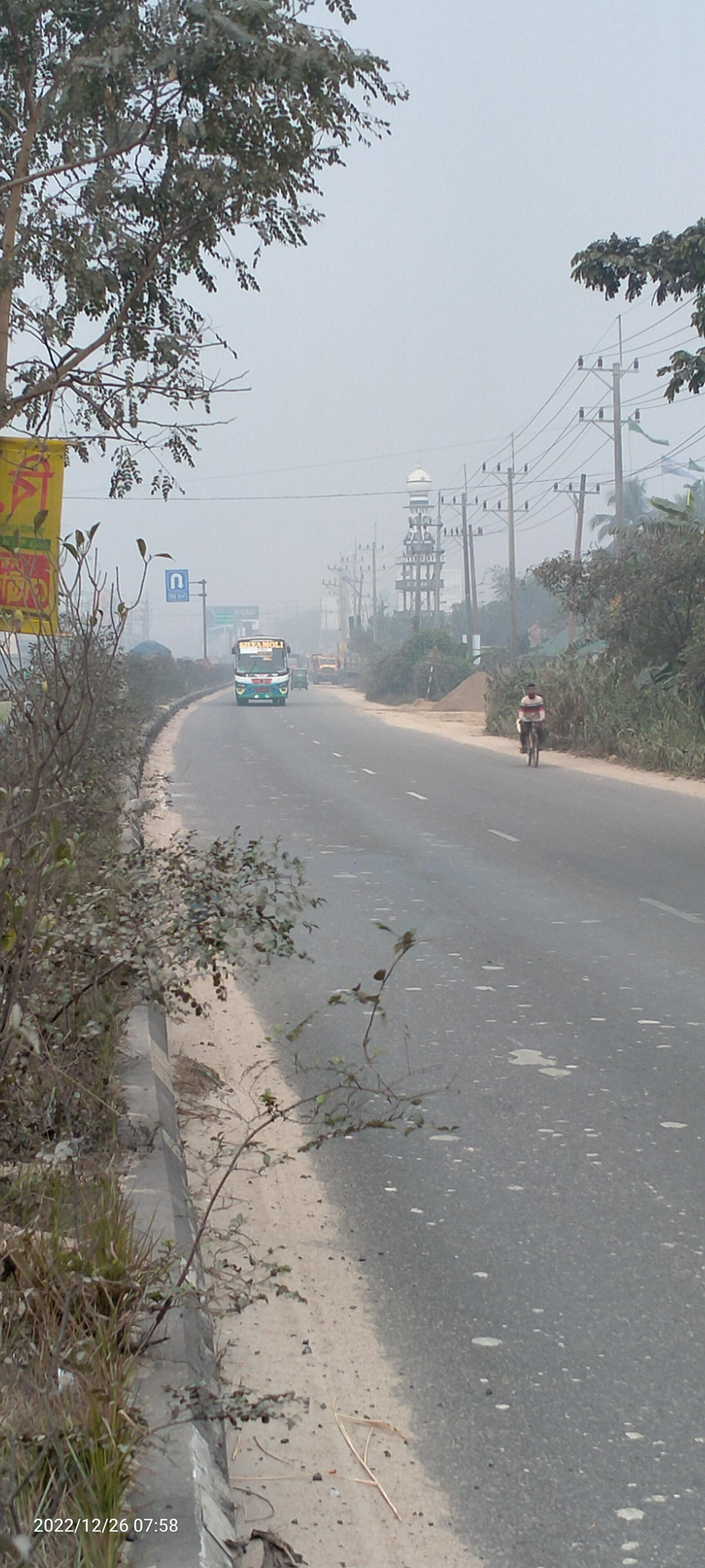Bus: (229, 632, 297, 710)
Truck: (310, 650, 347, 690)
